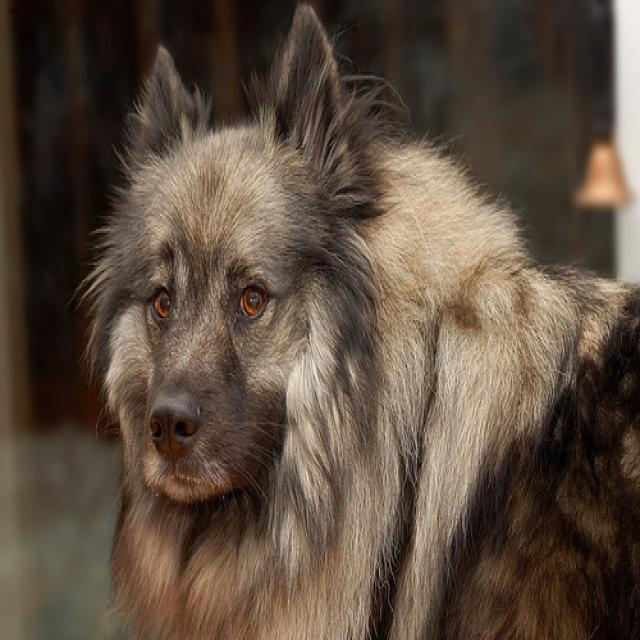dog-keeshond: (77, 2, 637, 636)
